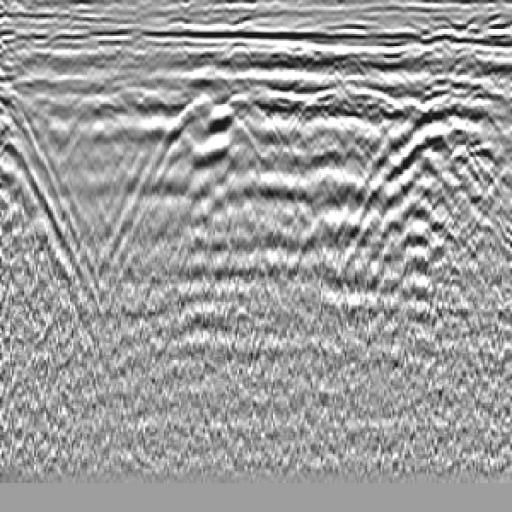metalic: (124, 67, 284, 155)
